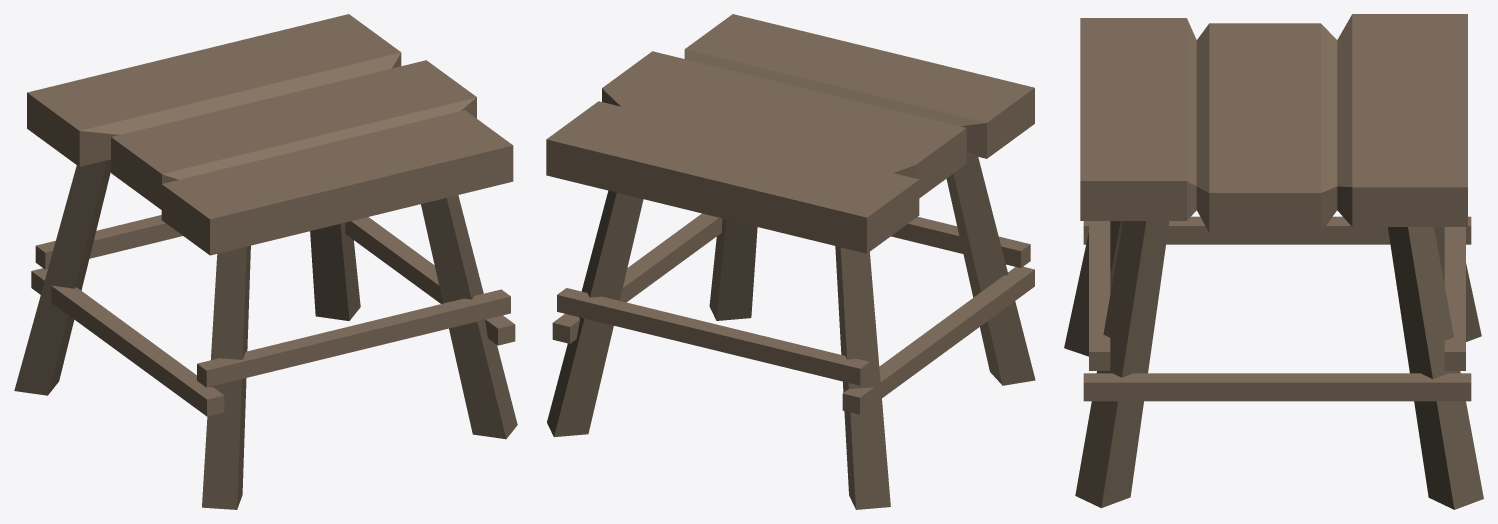
The model's file is SM_Prop_Stool_01.glb.
The picture shows the model from 3 angles, left to right: view 1: azimuth 30°, elevation 25°; view 2: azimuth 150°, elevation 25°; view 3: azimuth 270°, elevation 25°; orthographic projection. The views are drawn at different scales.
Parts seen in each view (by area): view 1: SM_Prop_Stool_01_part00; view 2: SM_Prop_Stool_01_part00; view 3: SM_Prop_Stool_01_part00.
Part boxes in pixels (<box>): SM_Prop_Stool_01_part00: <box>14,14,517,509</box>; SM_Prop_Stool_01_part00: <box>546,14,1035,509</box>; SM_Prop_Stool_01_part00: <box>1064,14,1483,509</box>.
Size of the model in its own units: 0.6166 by 0.4865 by 0.5792.
1 material, 1 textured.
